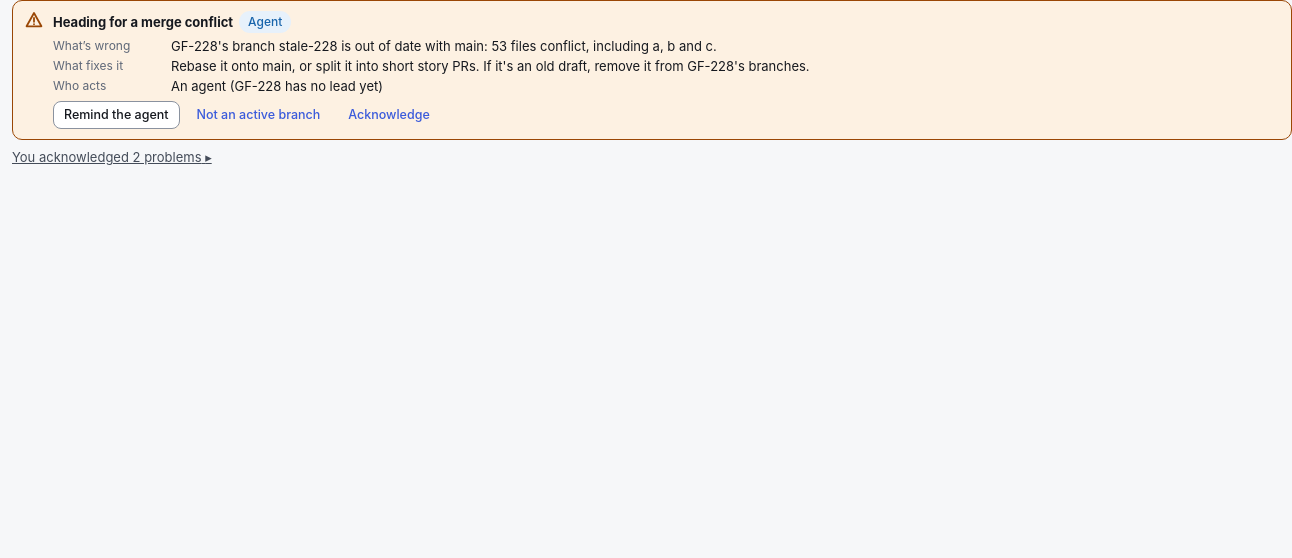
it: the item’s problem banner (decision 37) › folds acknowledged problems into one quiet line that opens them, and doesn’t count them (decision 62)
Expected: the element that starts with "Heading for a merge conflict" is shown, [12,0,1291,140]
Click the button "You acknowledged 2 problems ▸" at x=112, y=157, box [12,148,212,167]
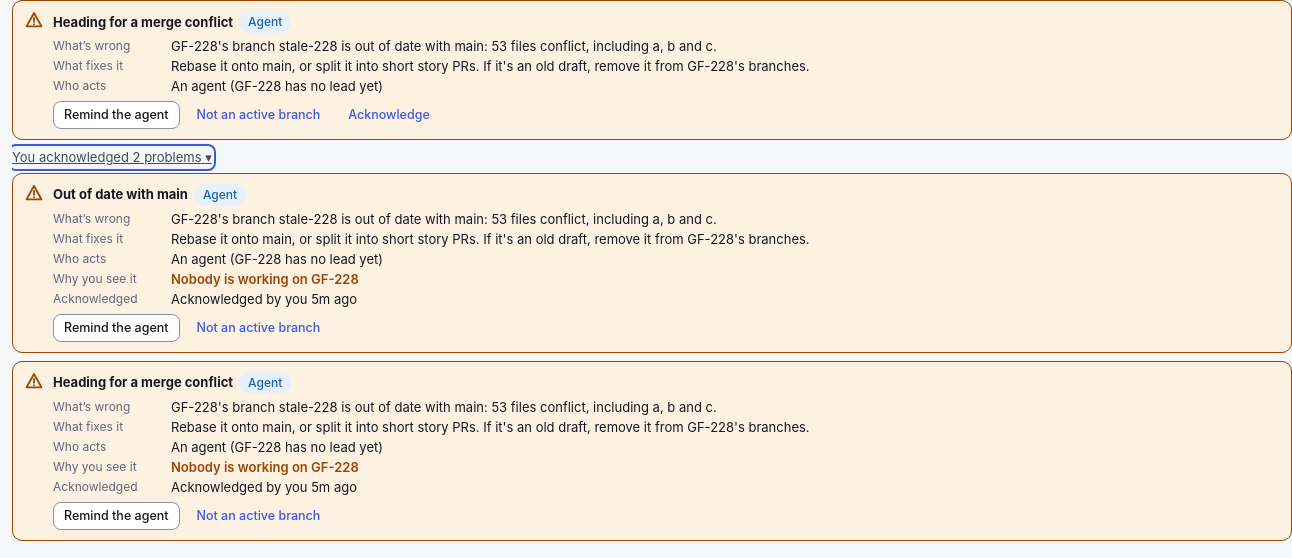
Now the button "You acknowledged 2 problems ▾" is expanded, box [12,148,212,167]
Now the 1st element showing "Acknowledged by you 5m ago" is shown, box [171,291,357,307]
